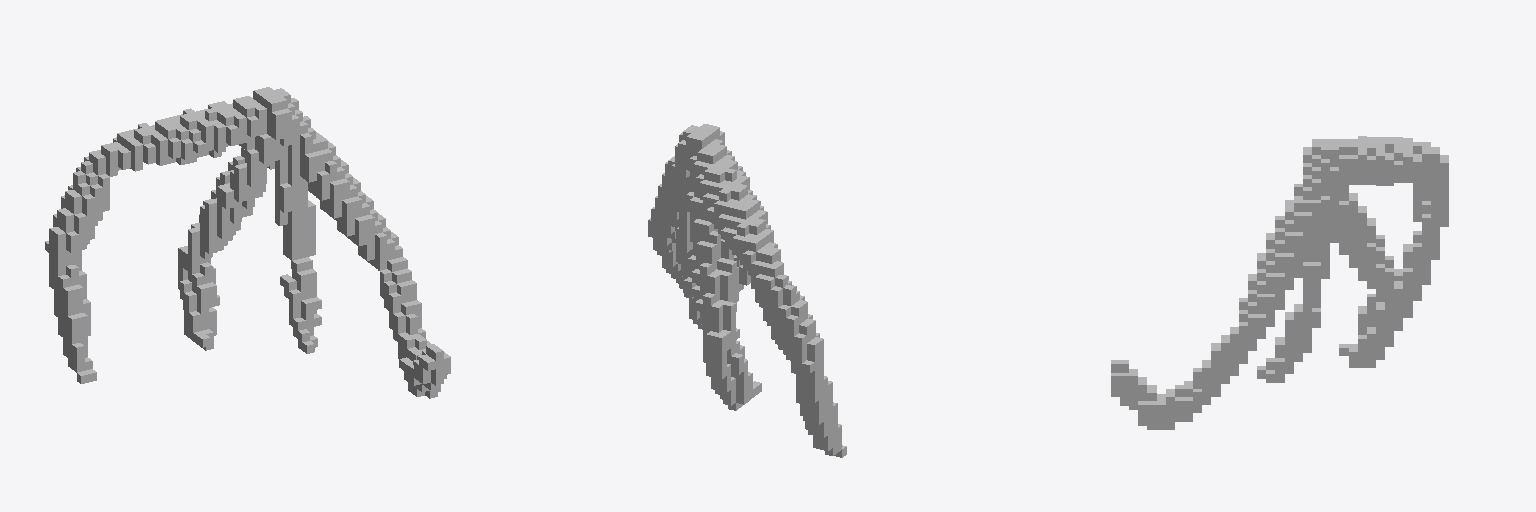
Rendered from bone_wing.obj.
3 views of the same model, side by side, from view 1: azimuth 30°, elevation 25°; view 2: azimuth 150°, elevation 25°; view 3: azimuth 270°, elevation 25° (orthographic).
Parts seen in each view (by area): view 1: bone_wing; view 2: bone_wing; view 3: bone_wing.
Part boxes in pixels (bbox=[...]): bone_wing: bbox=[45, 87, 450, 398]; bone_wing: bbox=[648, 124, 846, 457]; bone_wing: bbox=[1111, 136, 1448, 429].
Bounding box in the file's own units: 16 × 16 × 18.5.